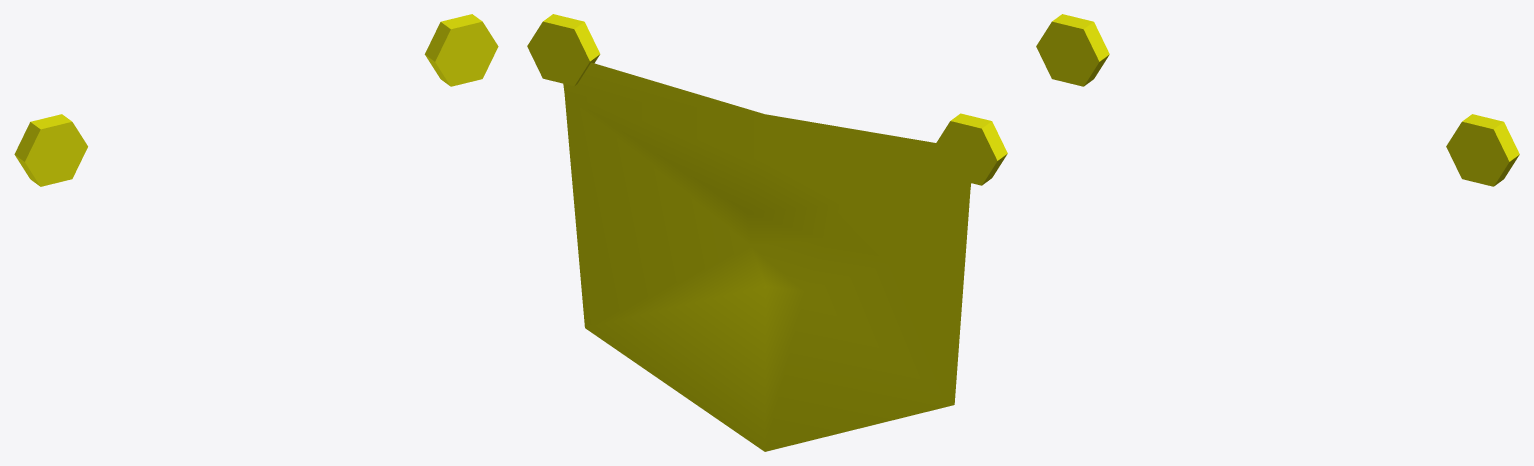
The picture shows the model from 3 angles, left to right: view 1: azimuth 30°, elevation 25°; view 2: azimuth 150°, elevation 25°; view 3: azimuth 330°, elevation 25°; orthographic projection.
Parts seen in each view (by area): view 1: co; view 2: co; view 3: co.
Part boxes in pixels (x1,y1,x2,y2): co: (14,14,498,186); co: (527,14,1007,451); co: (1036,14,1519,186).
Size of the model in its own units: 2.12 by 1.63 by 0.0803.
Materials: 1 (1 with a texture image).
